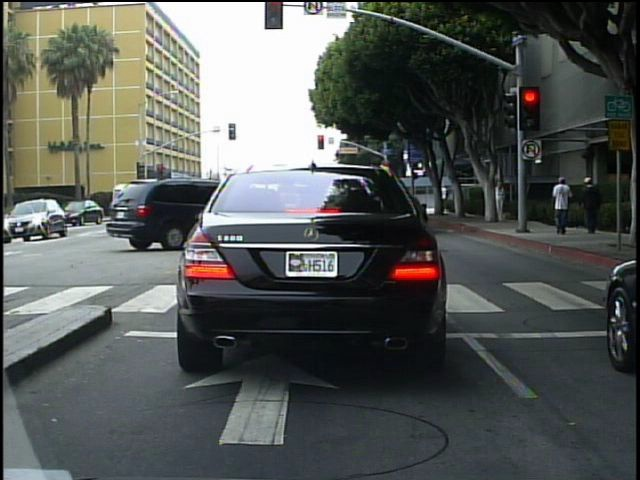person: (583, 169, 608, 240), (551, 173, 578, 235), (496, 178, 509, 223), (437, 179, 451, 215)
